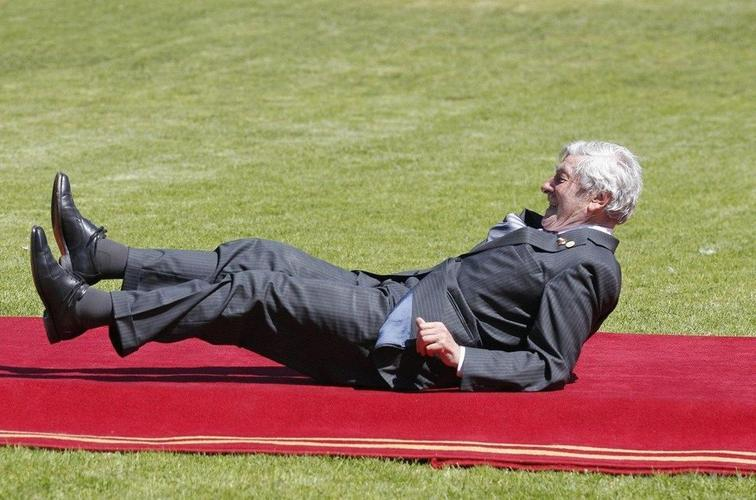down: (22, 127, 668, 401)
